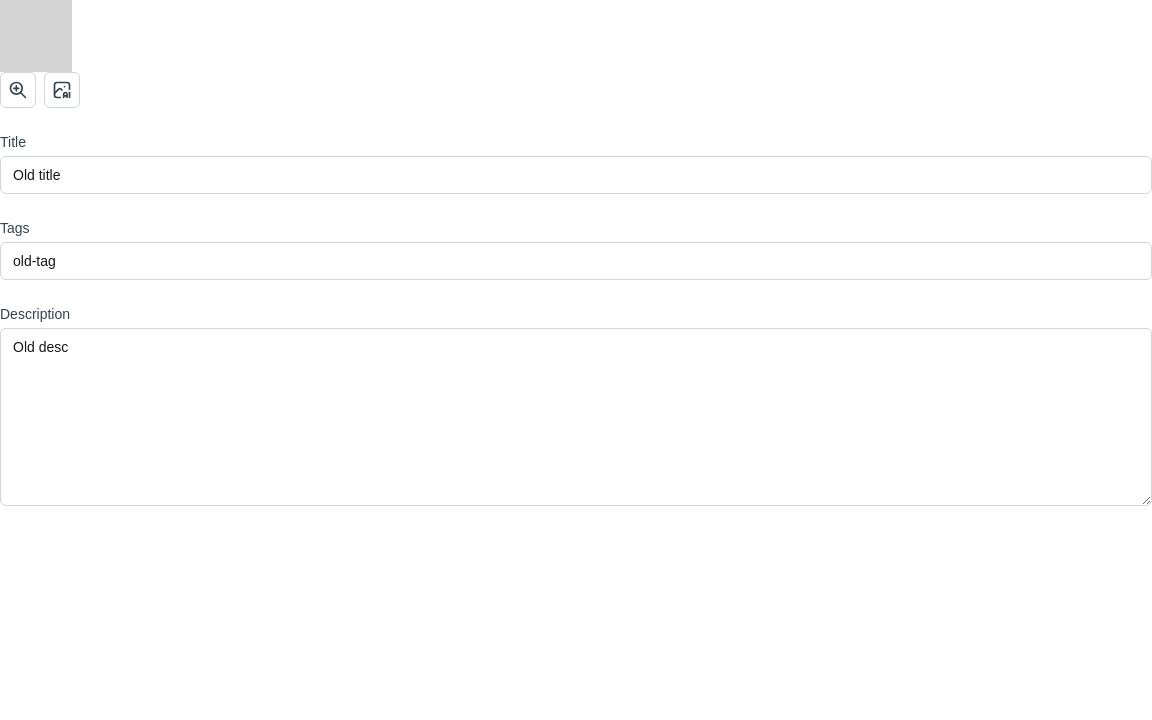
ImageAiMetaSection › 失败重试不打开确认，并沿用上次目标语言
Click the button named "AI recognize".
click(62, 90)  # box [44,72,80,108]
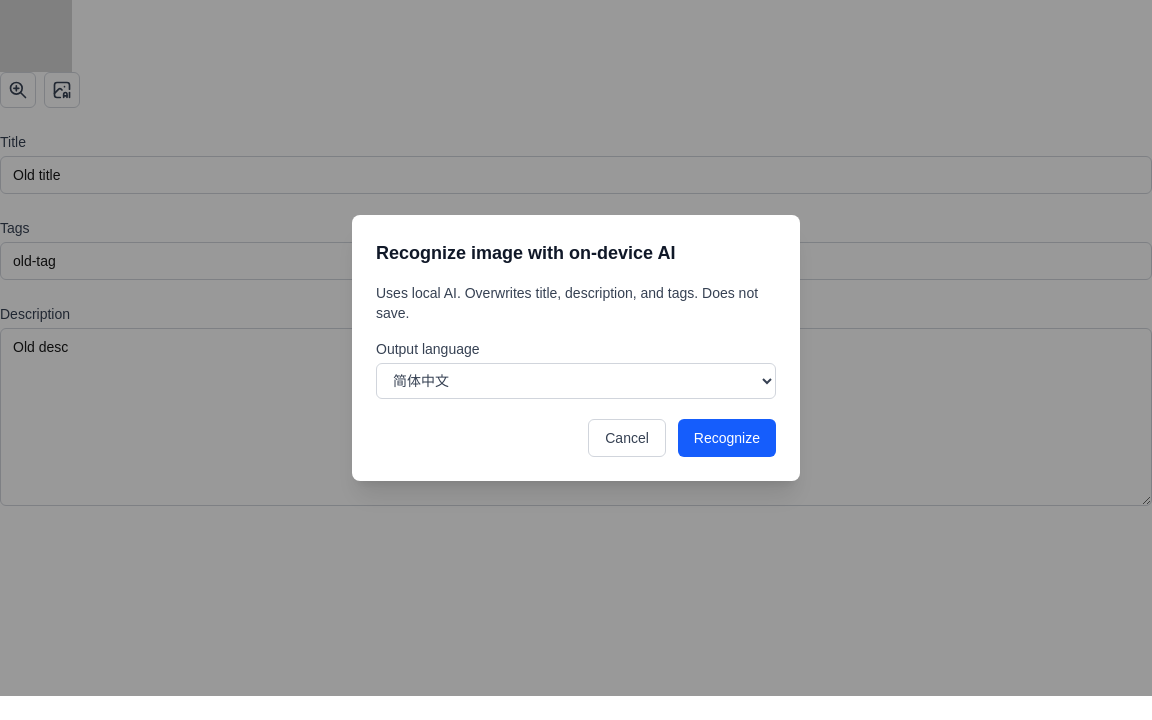
Select "English" in the dropdown labelled "Output language" at coordinates (576, 381), box [376,363,776,399]
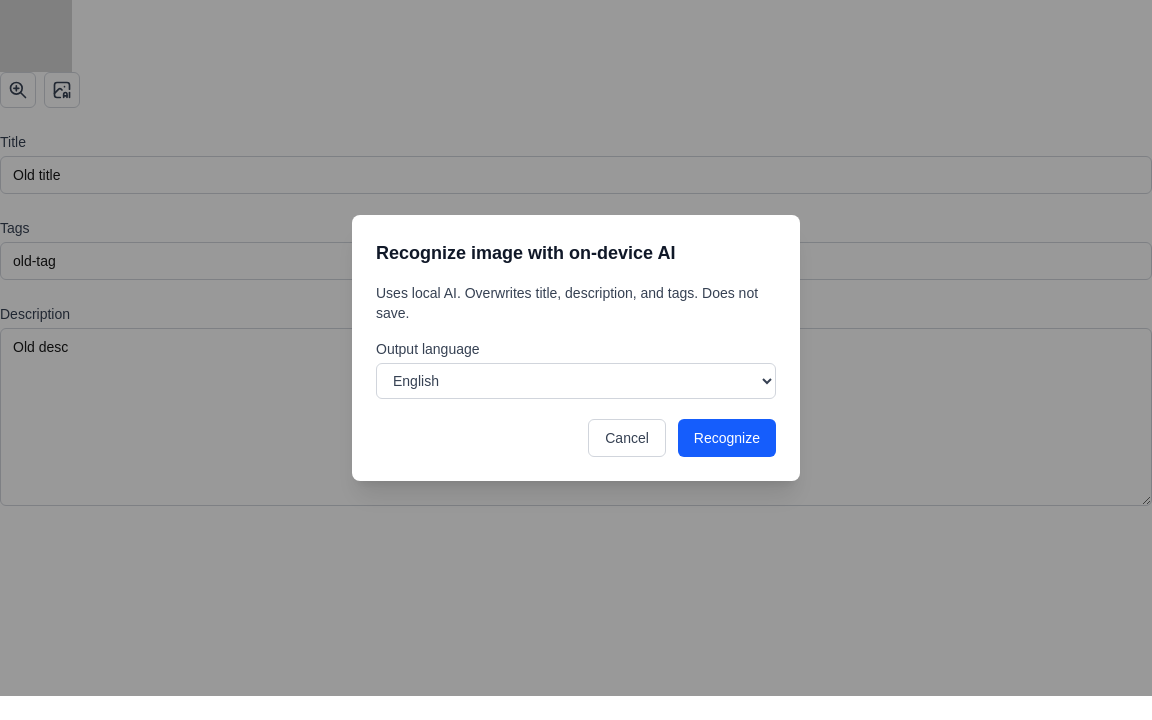
Click the button "Recognize".
click(727, 438)  # box [678,419,776,457]
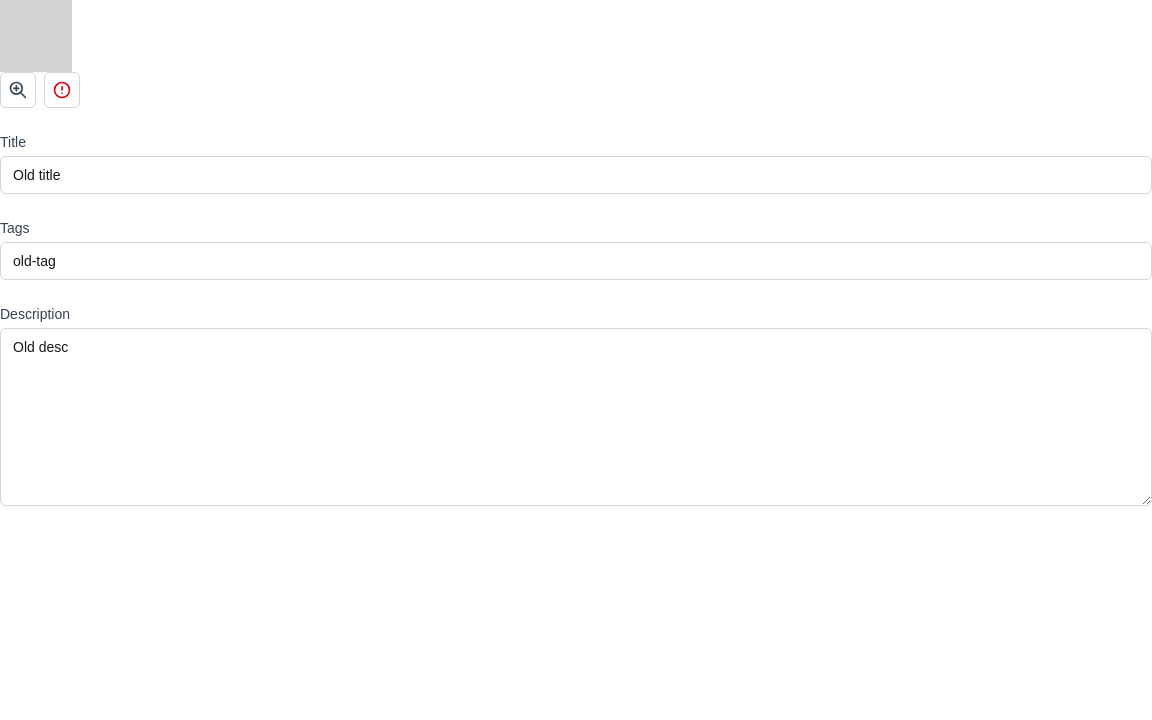
expect the field showing "Old title" below "Title" is shown: met, box [0,156,1151,194]
expect the dialog is gone: met
Click the button named "AI recognize".
click(62, 90)  # box [44,72,80,108]
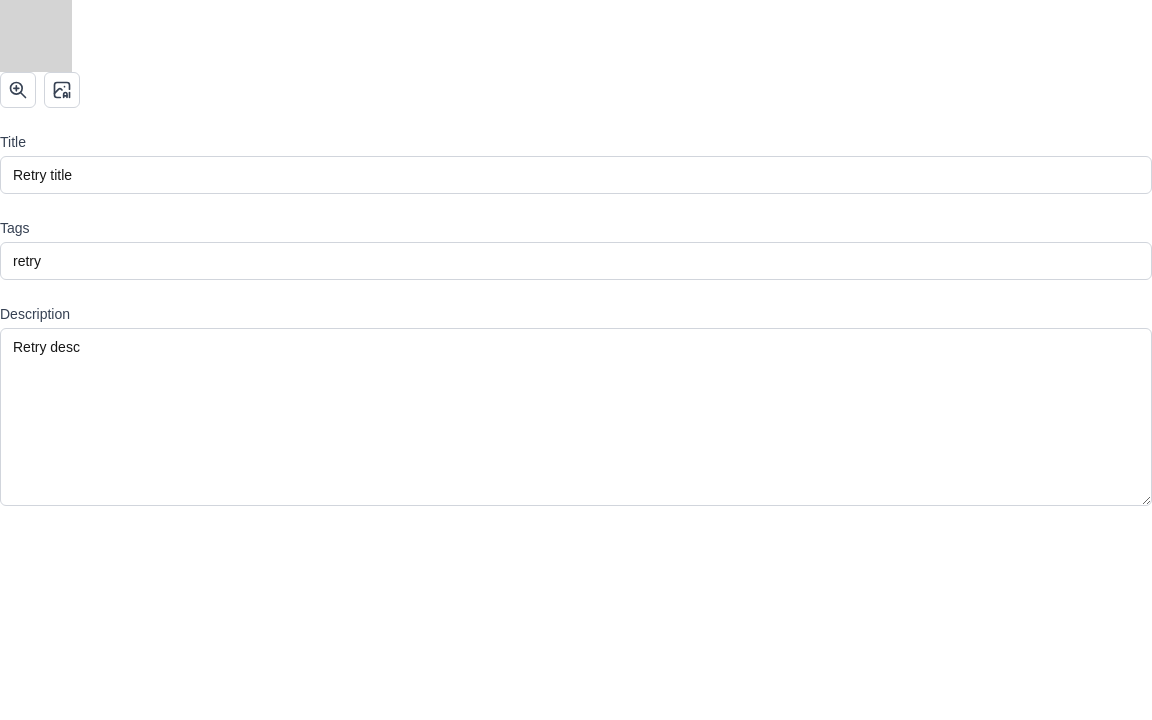
expect the field showing "Retry title" below "Title" is shown: met, box [0,156,1151,194]
